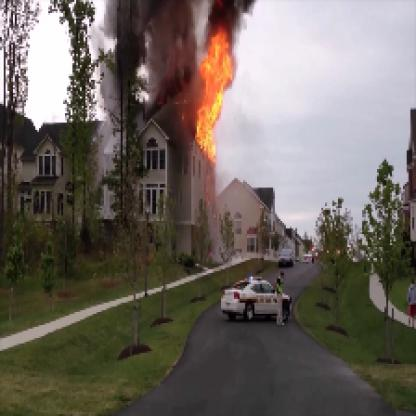Fire: (191, 21, 238, 166)
Smoke: (110, 2, 204, 126)
